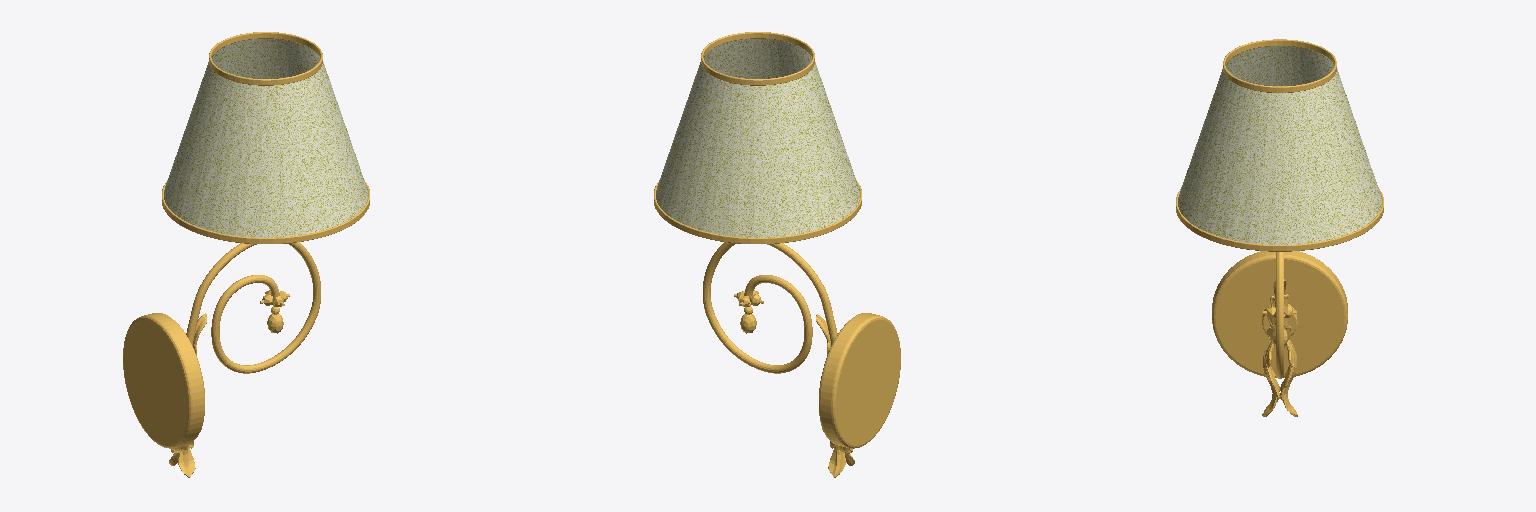
3 renders of one model, left to right at view 1: azimuth 30°, elevation 25°; view 2: azimuth 150°, elevation 25°; view 3: azimuth 270°, elevation 25°, orthographic.
Visible parts, largest first — view 1: Line02; view 2: Line02; view 3: Line02.
Boxes of the visible parts, box(x1,y1,x2,y2) form: Line02: box(123, 32, 369, 477); Line02: box(654, 32, 900, 477); Line02: box(1176, 39, 1383, 416).
Bounding box in the file's own units: 194 × 366 × 175.
Materials: 2 (1 with a texture image).